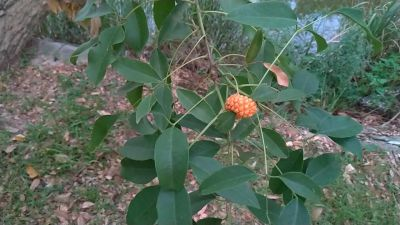eggs: (226, 92, 258, 119)
